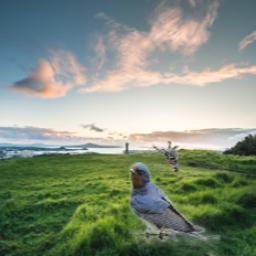Sparrow: (152, 141, 178, 172)
Swallow: (129, 162, 221, 256)
